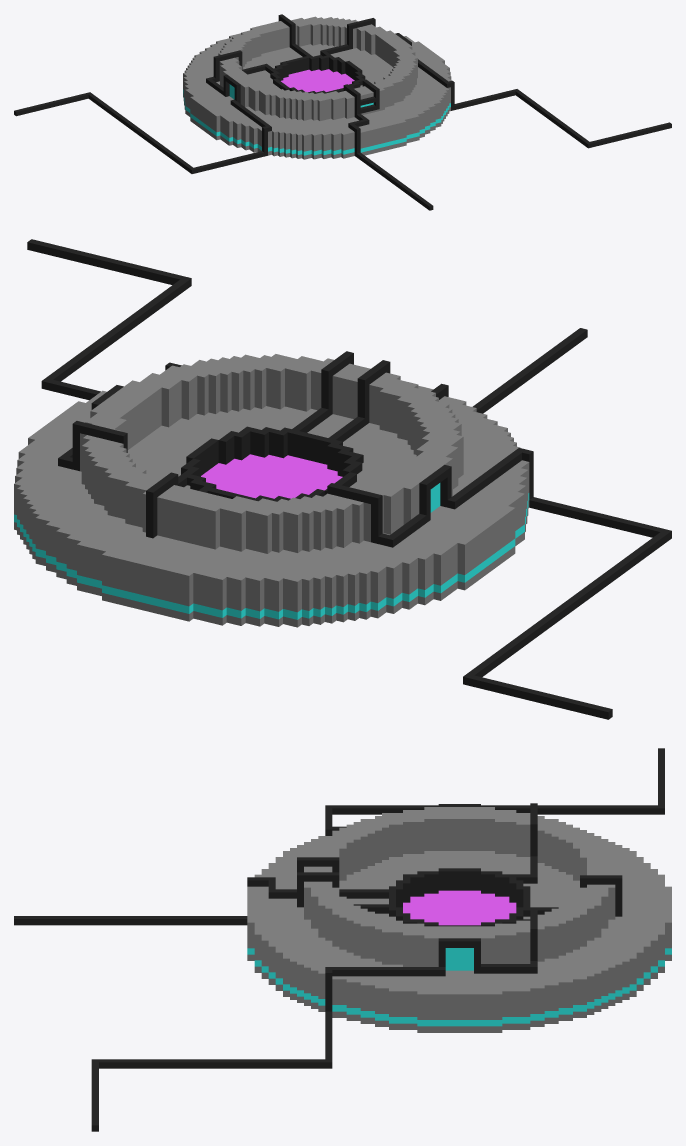
The model's file is Launch Bay-0.obj.
3 renders of one model, top to bottom at view 1: azimuth 30°, elevation 25°; view 2: azimuth 150°, elevation 25°; view 3: azimuth 270°, elevation 25°, orthographic. The views are drawn at different scales.
Visible parts, largest first — view 1: Launch Bay-0; view 2: Launch Bay-0; view 3: Launch Bay-0.
Part boxes in pixels (x1,y1,x2,y2): Launch Bay-0: (14, 14, 671, 210); Launch Bay-0: (14, 239, 671, 719); Launch Bay-0: (14, 748, 671, 1131).
Size of the model in its own units: 126 by 12 by 93.
Materials: 1 (1 with a texture image).
